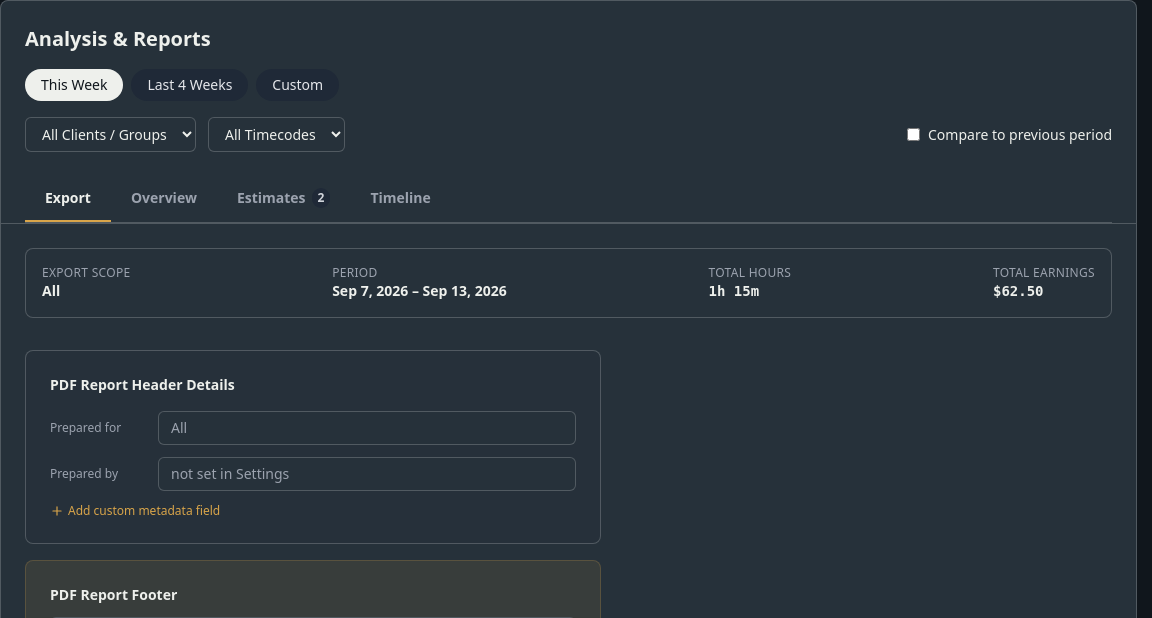
AnalysisView Redesign Tabs & Metrics › renders only three preset buttons (This Week, Last 4 Weeks, Custom) and handles state switching
The width and height of the screenshot is (1152, 618).
Expected: the button "This Week" is shown, [25,69,123,101]
Expected: the button "Custom" is shown, [256,69,339,101]
// Clicking "Last 4 Weeks" selects the preset
Click the button "Last 4 Weeks" at (190, 85), box [131,69,248,101]
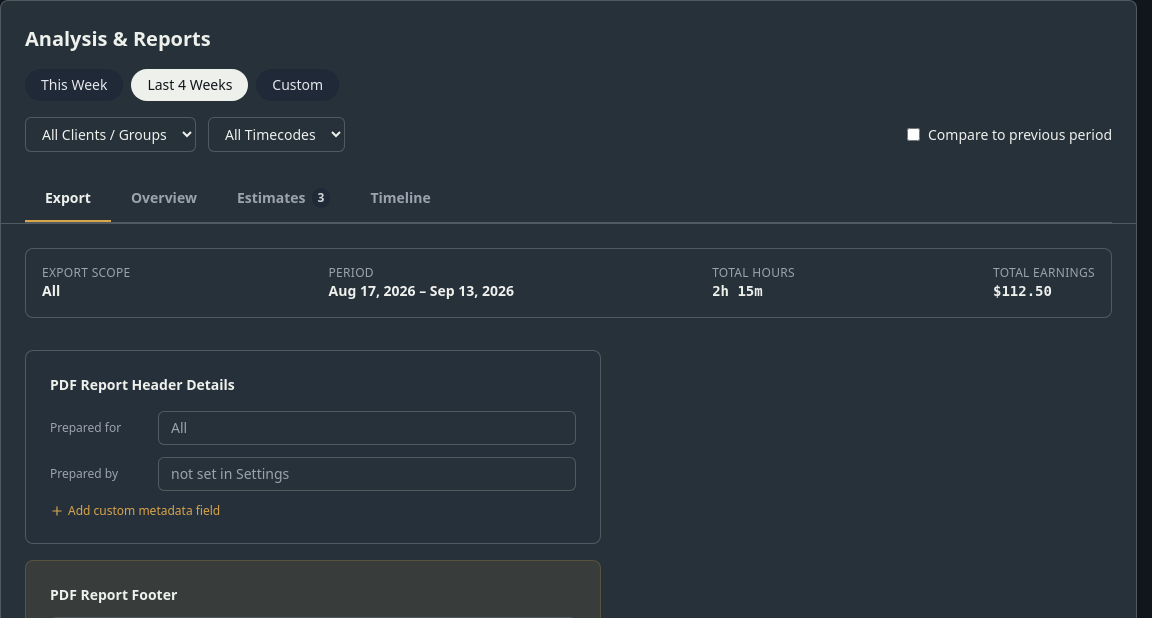
Expected: the button "Last 4 Weeks" has class "bg-graphite", [131,69,248,101]
// Clicking "Custom" shows start and end date inputs
Click the button "Custom" at (298, 85), box [256,69,339,101]
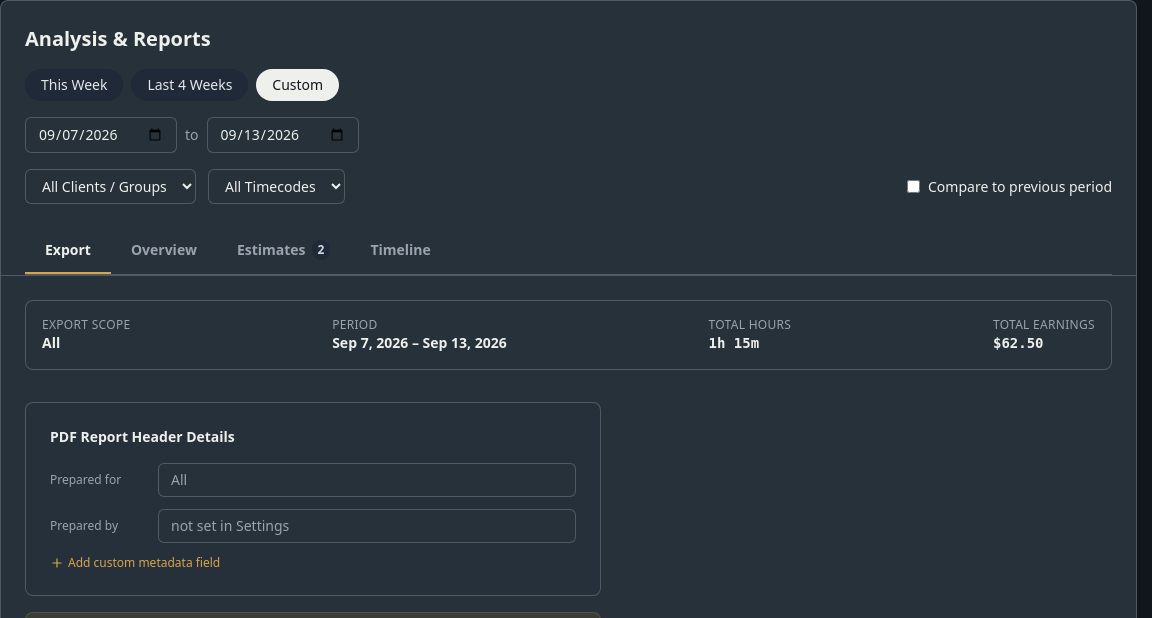
Expected: the text "to" is shown, [185,125,198,145]
